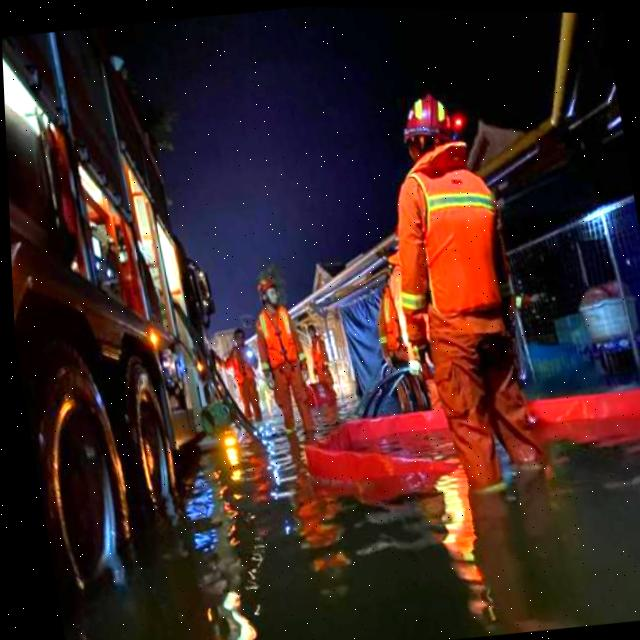rescuer: (359, 75, 590, 533), (233, 259, 345, 452)
